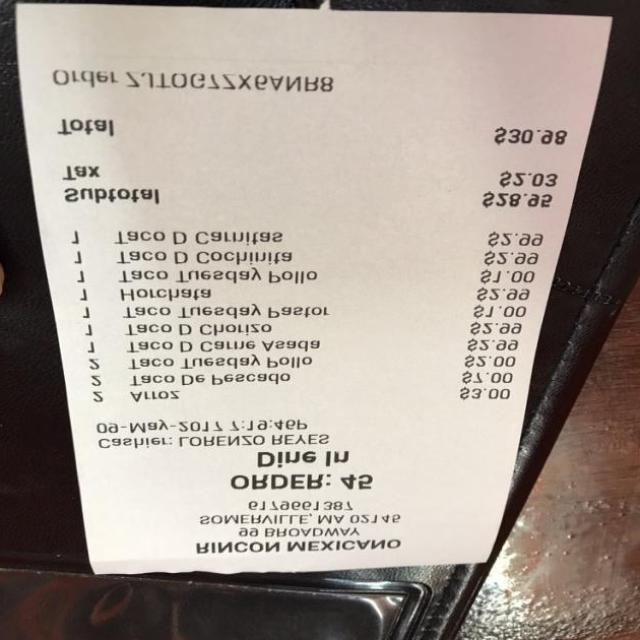kertas: (6, 4, 610, 581)
